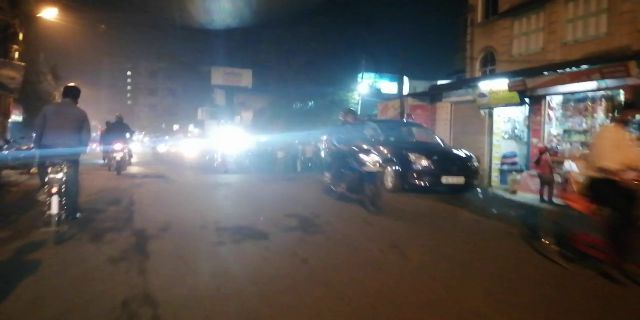Cycle: (30, 78, 86, 243)
Motorbike: (317, 108, 387, 214)
